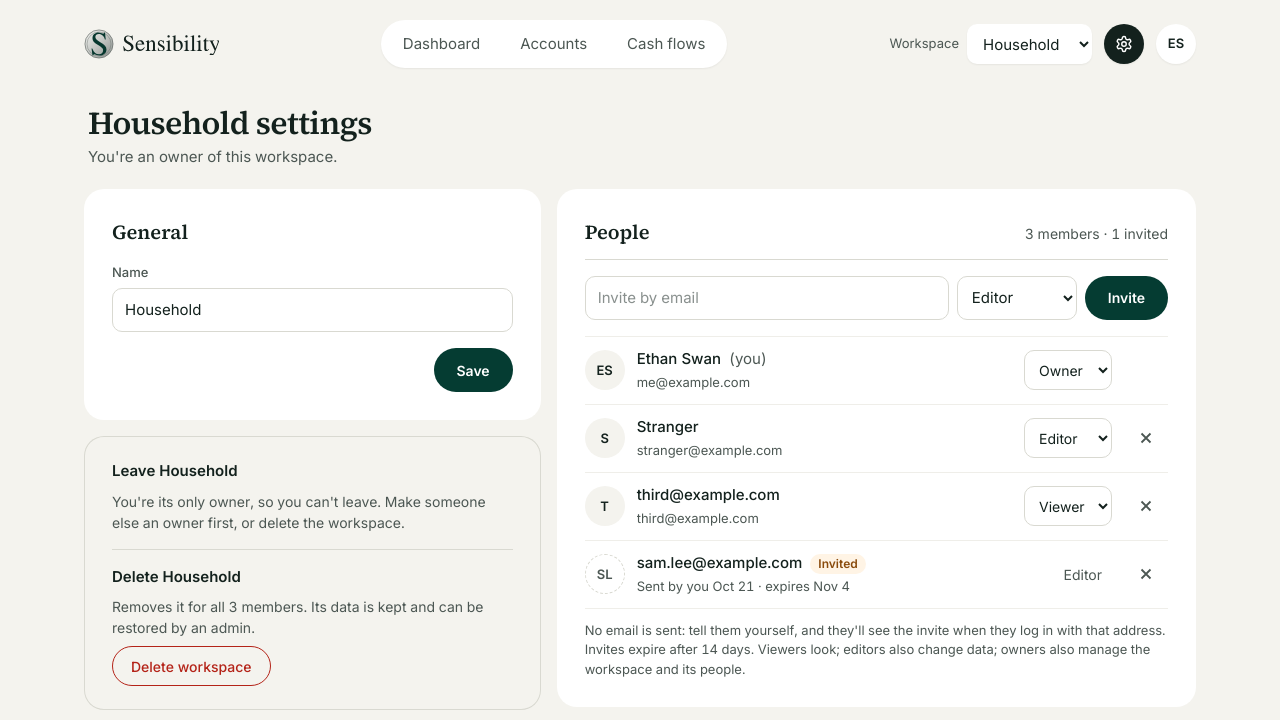
Test: settings, as the owner › saves a role as soon as it is chosen
Select "Viewer" in the dropdown named "Role for Stranger". click: x=1068, y=438
box: [1024,418,1112,458]
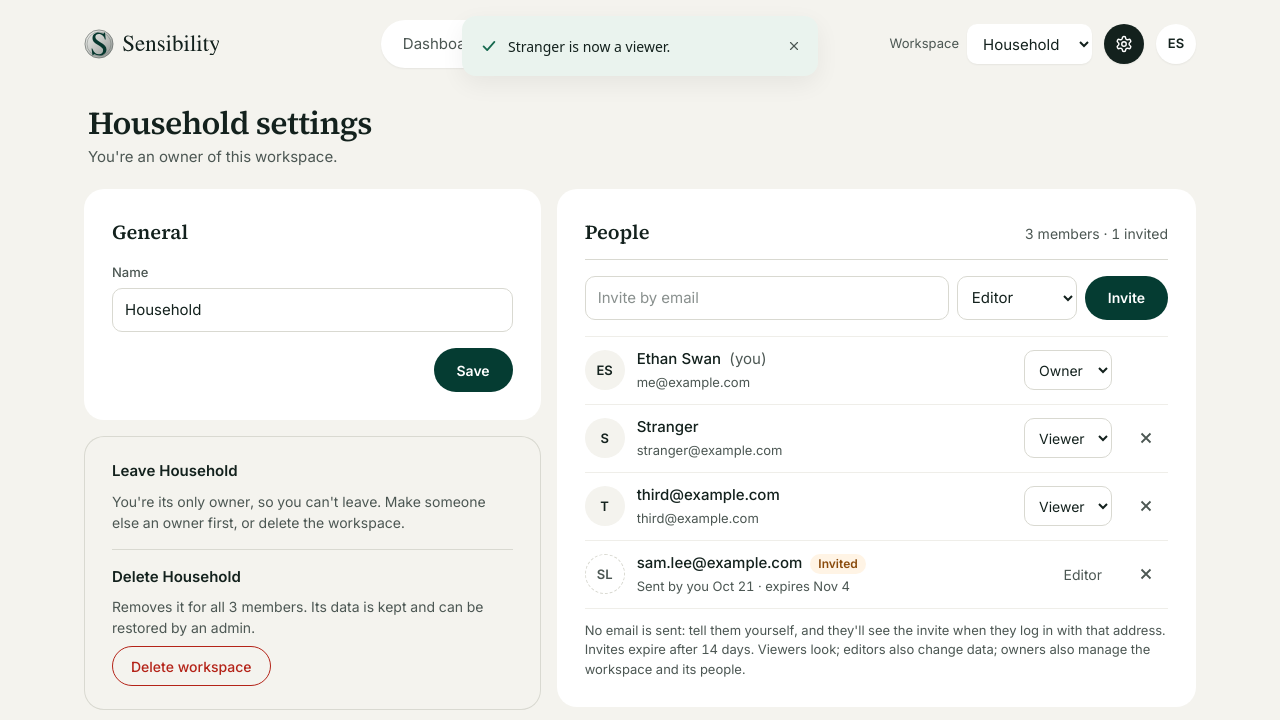
Expected: the text "Stranger is now a viewer." is shown, [508,36,670,56]
